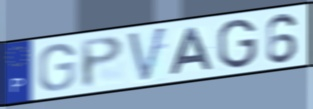6: (265, 11, 299, 65)
A: (168, 25, 216, 77)
G: (216, 18, 259, 71), (36, 42, 77, 93)
P: (78, 34, 126, 90)
V: (126, 24, 169, 85)
